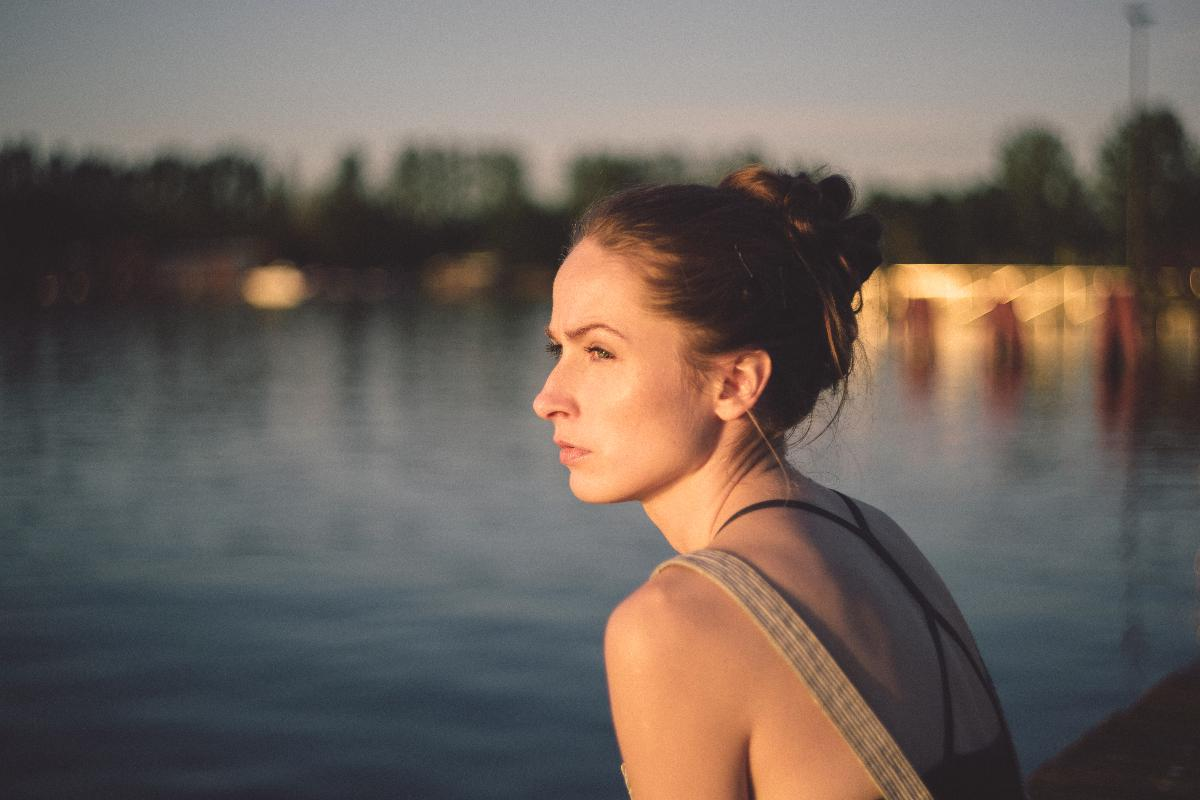Person: (530, 165, 1027, 800)
